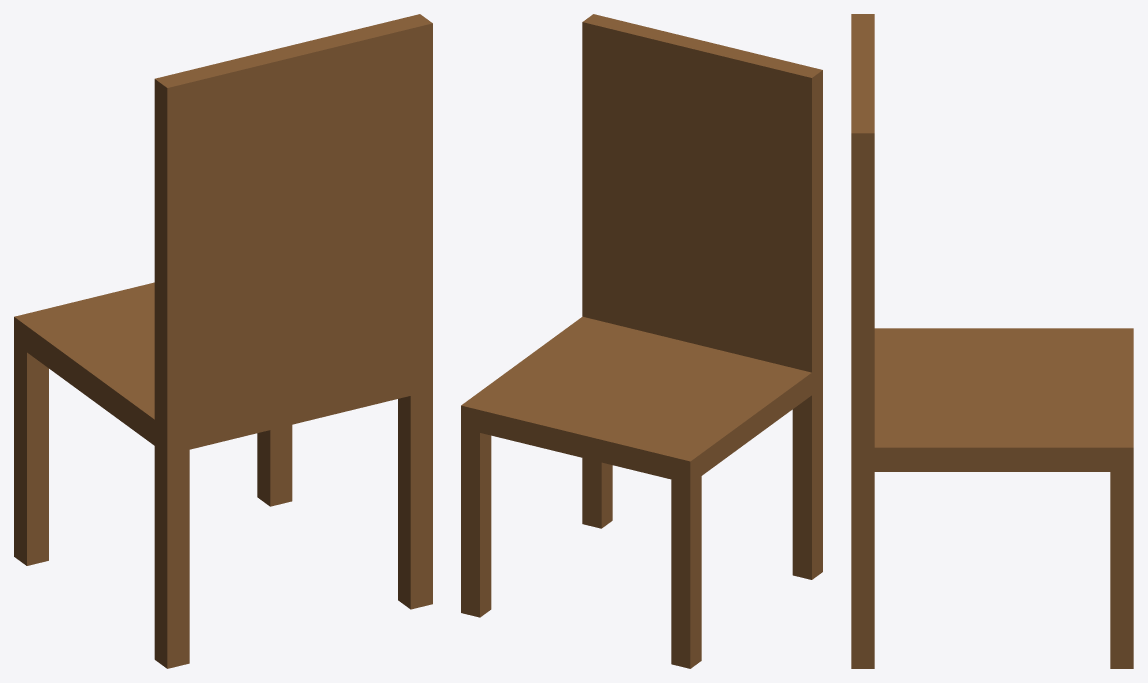
Rendered from Chair.fbx.
3 renders of one model, left to right at view 1: azimuth 30°, elevation 25°; view 2: azimuth 150°, elevation 25°; view 3: azimuth 270°, elevation 25°, orthographic. The views are drawn at different scales.
Visible parts, largest first — view 1: Chair.002; view 2: Chair.002; view 3: Chair.002.
Part boxes in pixels (<box>): Chair.002: <box>14,14,432,668</box>; Chair.002: <box>461,14,822,668</box>; Chair.002: <box>851,14,1133,668</box>.
Size of the model in its own units: 0.375 by 0.375 by 0.784.
